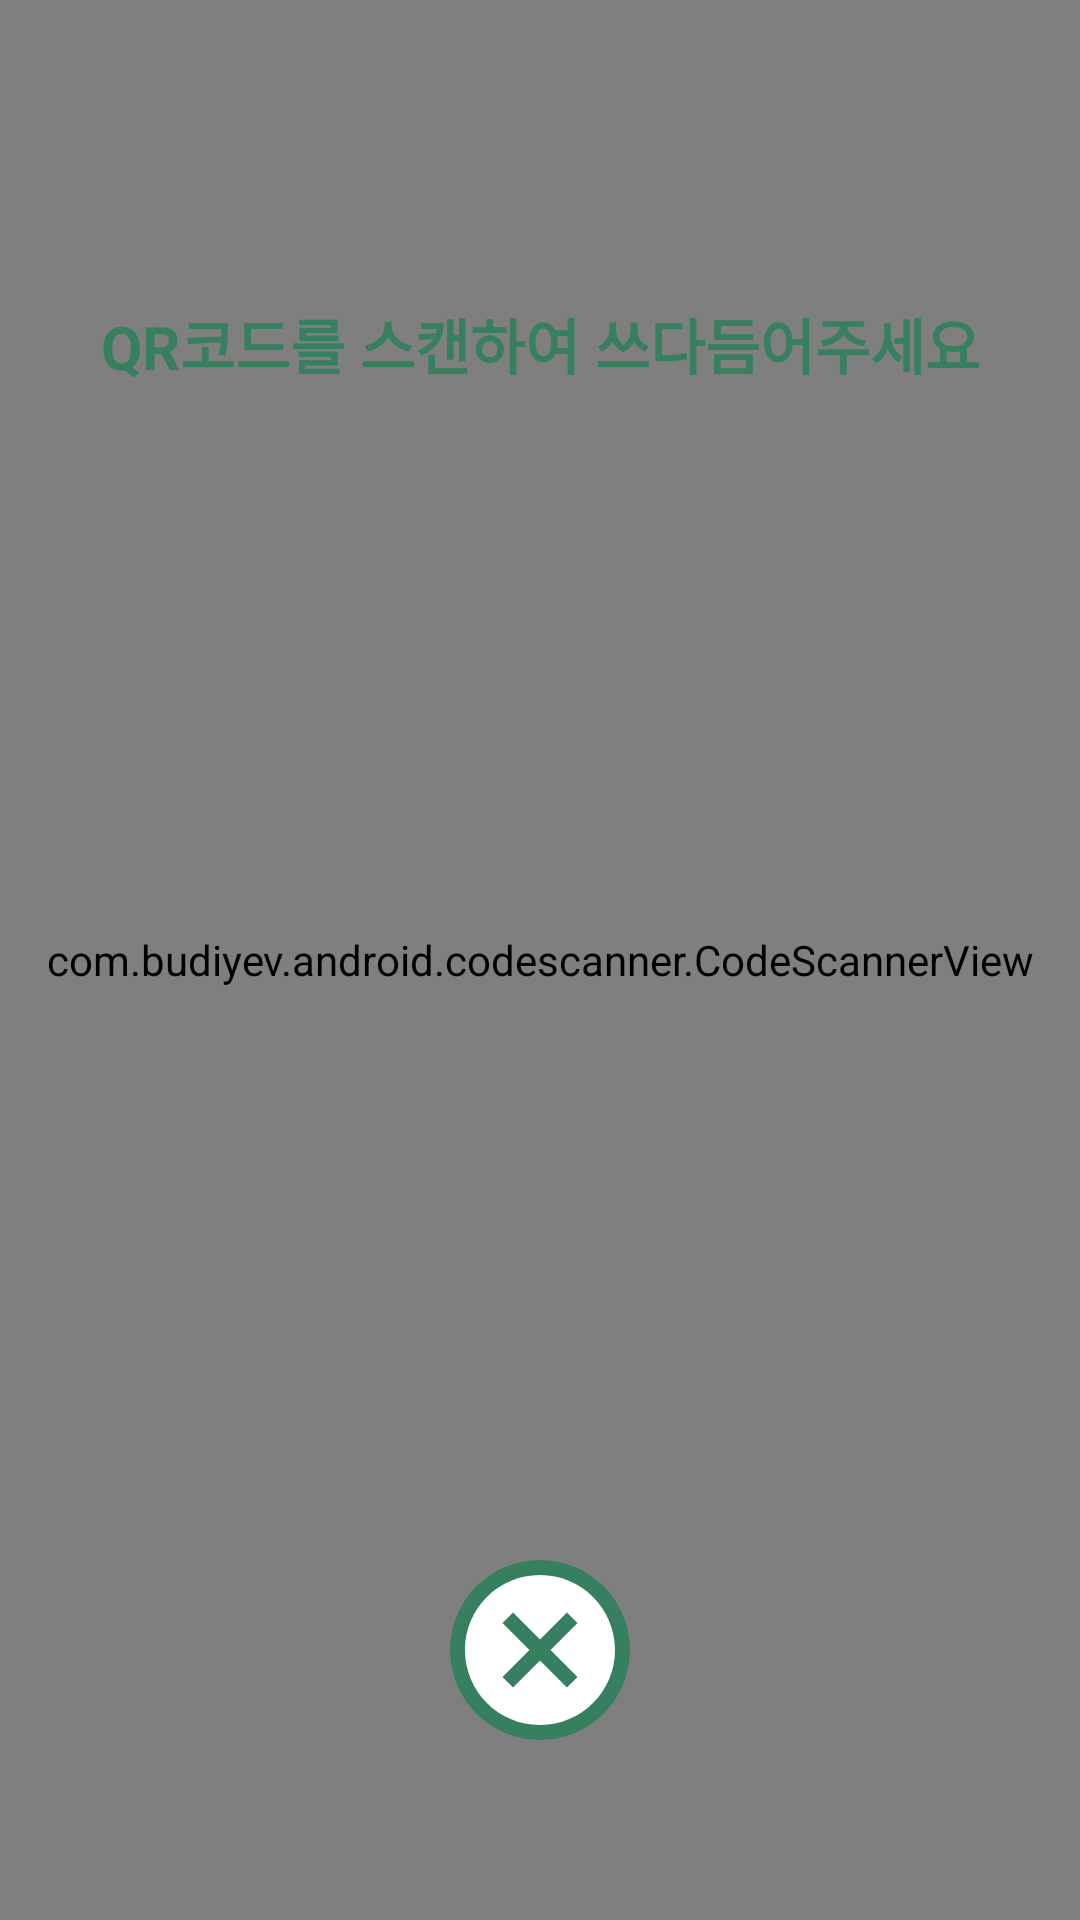

Icons on this 1080px×1920px Android screen, each with its box as (x1, y1, x2, y2):
qr cancel: (450, 1560, 630, 1740)
